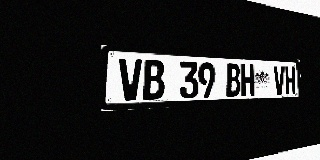3: (180, 61, 198, 99)
9: (198, 62, 215, 98)
B: (143, 59, 165, 100), (226, 63, 241, 97)
H: (241, 64, 255, 96), (285, 66, 296, 94)
V: (119, 58, 142, 101), (273, 66, 285, 95)
